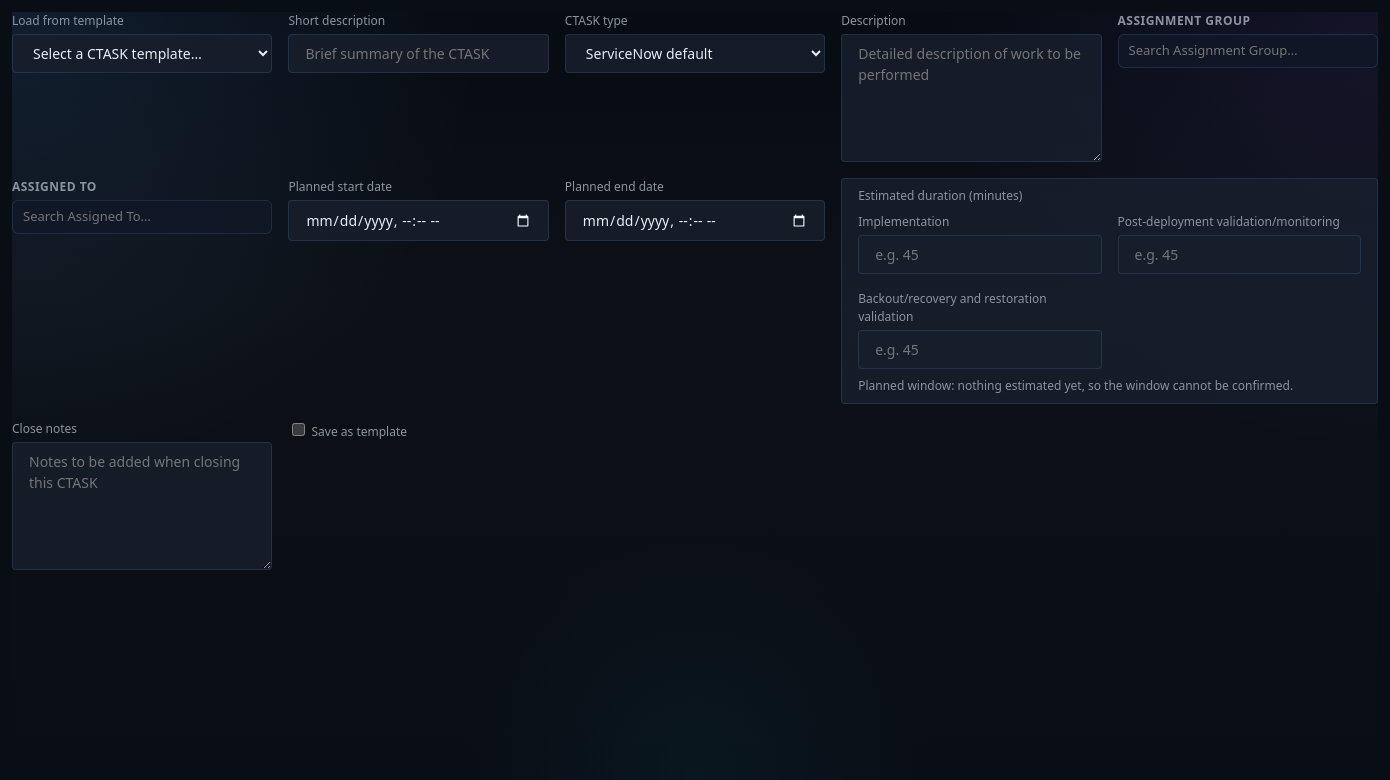
Test: CtaskEditForm › save as template › hides template name input when checkbox is unchecked
Click the checkbox named "Save as template checkbox". click: (299, 430)
box: [292,423,305,436]
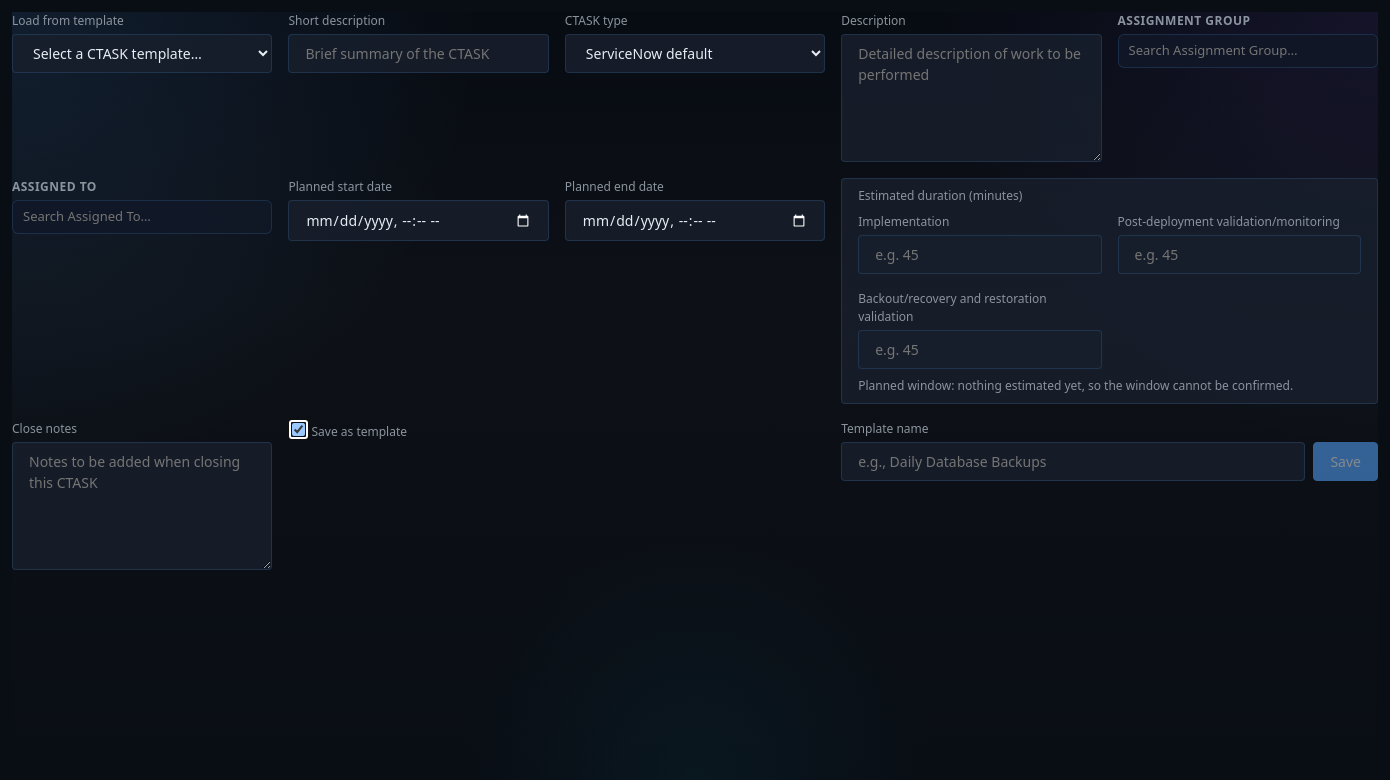
Expected: the field labelled "Template name" is shown, [841,442,1305,481]
Click the checkbox named "Save as template checkbox". click: (299, 430)
box: [292,423,305,436]
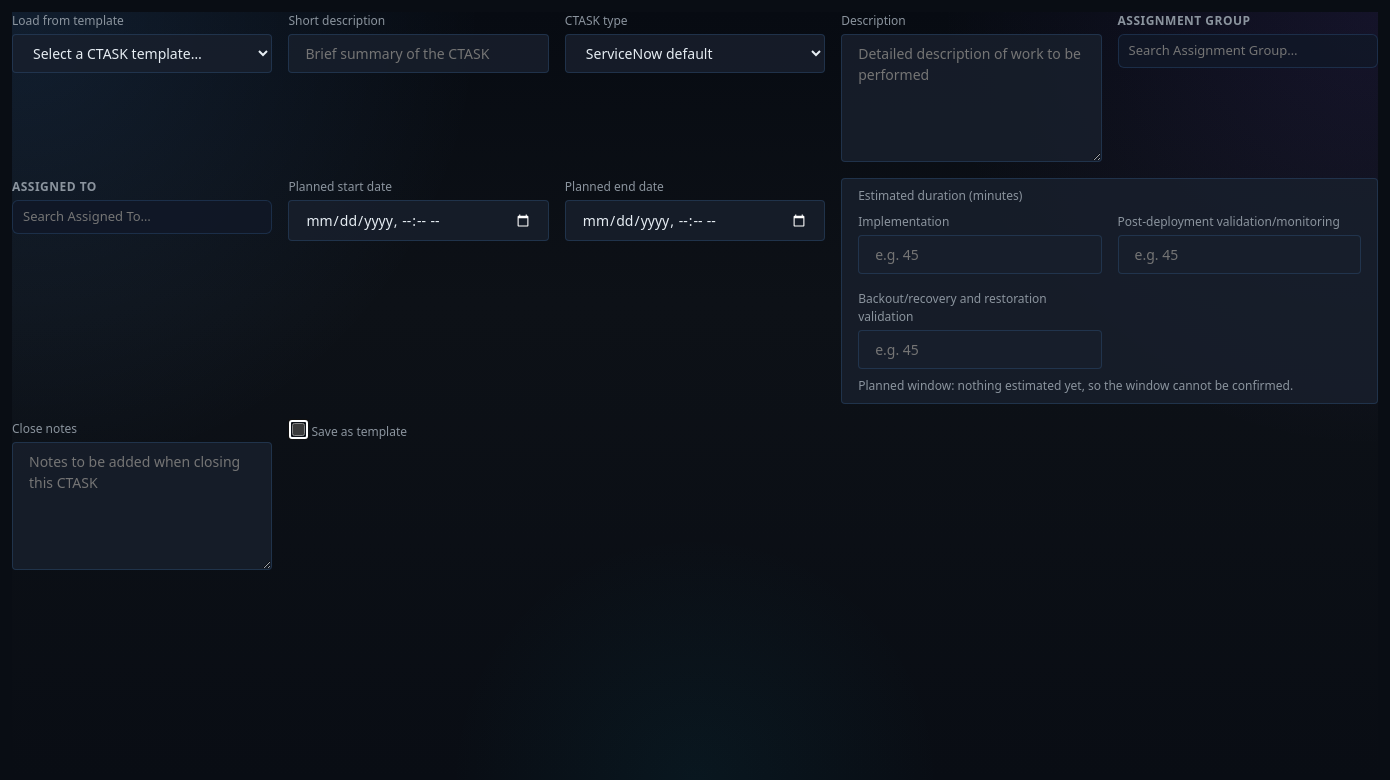
Expected: the text labelled "Template name" is gone
